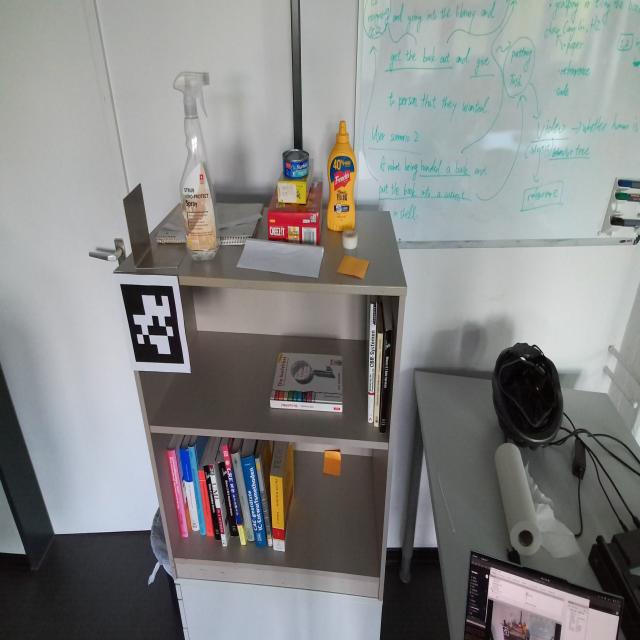Book Spine: (223, 445, 247, 546), (241, 455, 267, 547), (231, 450, 255, 543), (167, 450, 189, 539), (179, 448, 200, 531), (188, 444, 206, 536), (255, 456, 273, 548), (219, 462, 239, 538), (209, 465, 227, 548), (204, 466, 221, 540), (380, 331, 392, 434), (270, 475, 285, 552), (368, 300, 377, 424), (199, 470, 213, 537), (269, 401, 342, 413), (374, 334, 383, 428)
